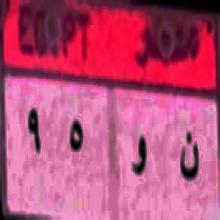5: (66, 112, 86, 161)
9: (26, 105, 42, 164)
noon: (174, 118, 201, 190)
waw: (132, 133, 150, 185)
